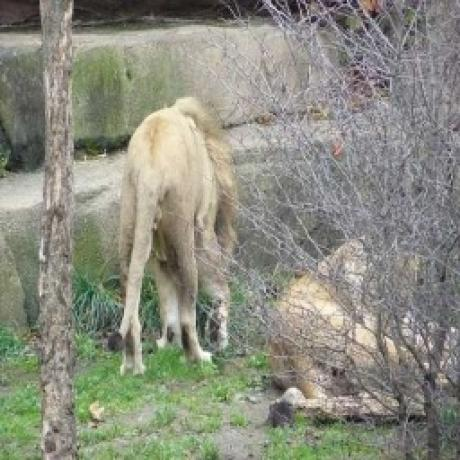Lion: (105, 98, 235, 375)
